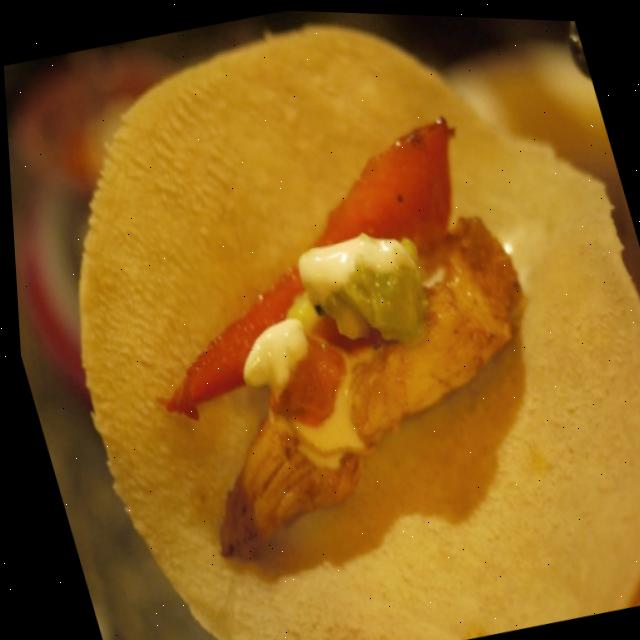面包点心: (10, 0, 640, 640)
